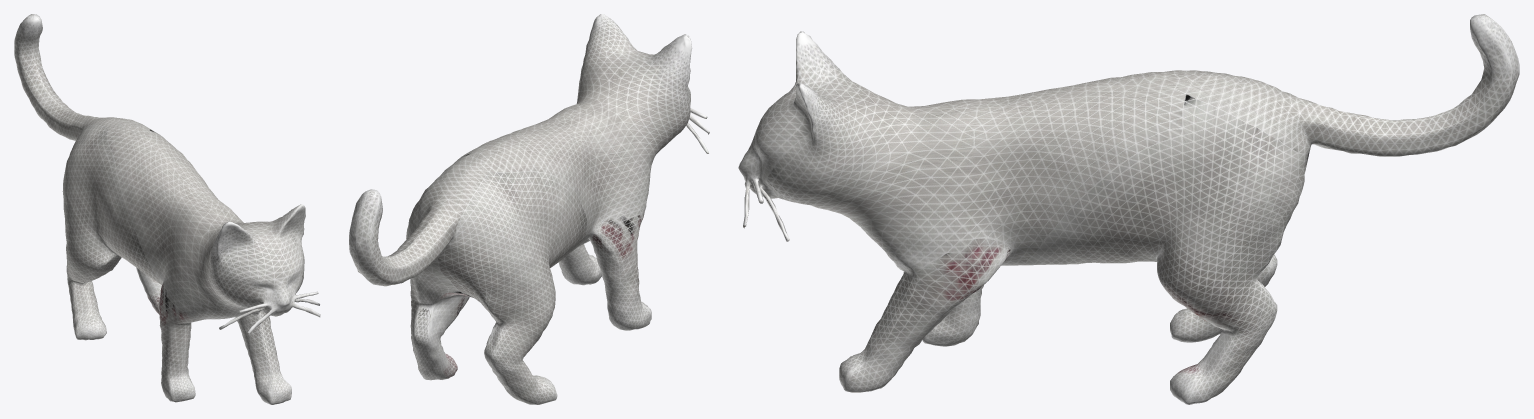
The model's file is whitecat_textured.glb.
3 views of the same model, side by side, from view 1: azimuth 30°, elevation 25°; view 2: azimuth 150°, elevation 25°; view 3: azimuth 270°, elevation 25° (orthographic). The views are drawn at different scales.
Parts seen in each view (by area): view 1: part_0000; view 2: part_0000; view 3: part_0000.
Boxes of the visible parts, <box> form: part_0000: <box>14,14,320,404</box>; part_0000: <box>349,14,709,404</box>; part_0000: <box>738,14,1519,404</box>.
Bounding box in the file's own units: 0.3727 × 0.7423 × 1.5.
Materials: 1 (1 with a texture image).
